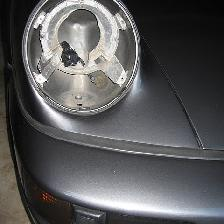broken_light: (22, 0, 139, 115)
